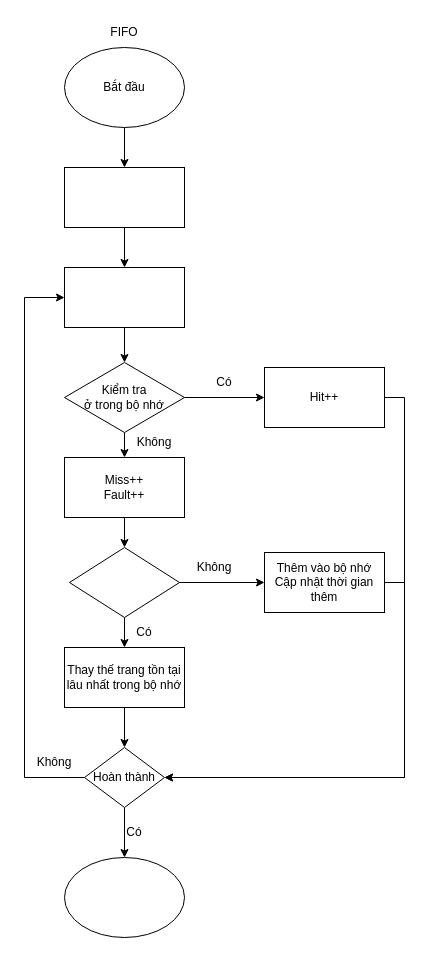
The diagram is 430 pixels wide and 955 high, and some of its shapes have lost their labels. Here are the shapes that lost their labels. From the top down, the centre of each, then its label:
At pixel 124 197: "Khởi tạo: Hit = 0 Miss = 0 Fault = 0".
At pixel 124 297: "Nhập vào một trang".
At pixel 124 582: "Bộ nhớ đẩy".
At pixel 124 897: "Kết thúc".
